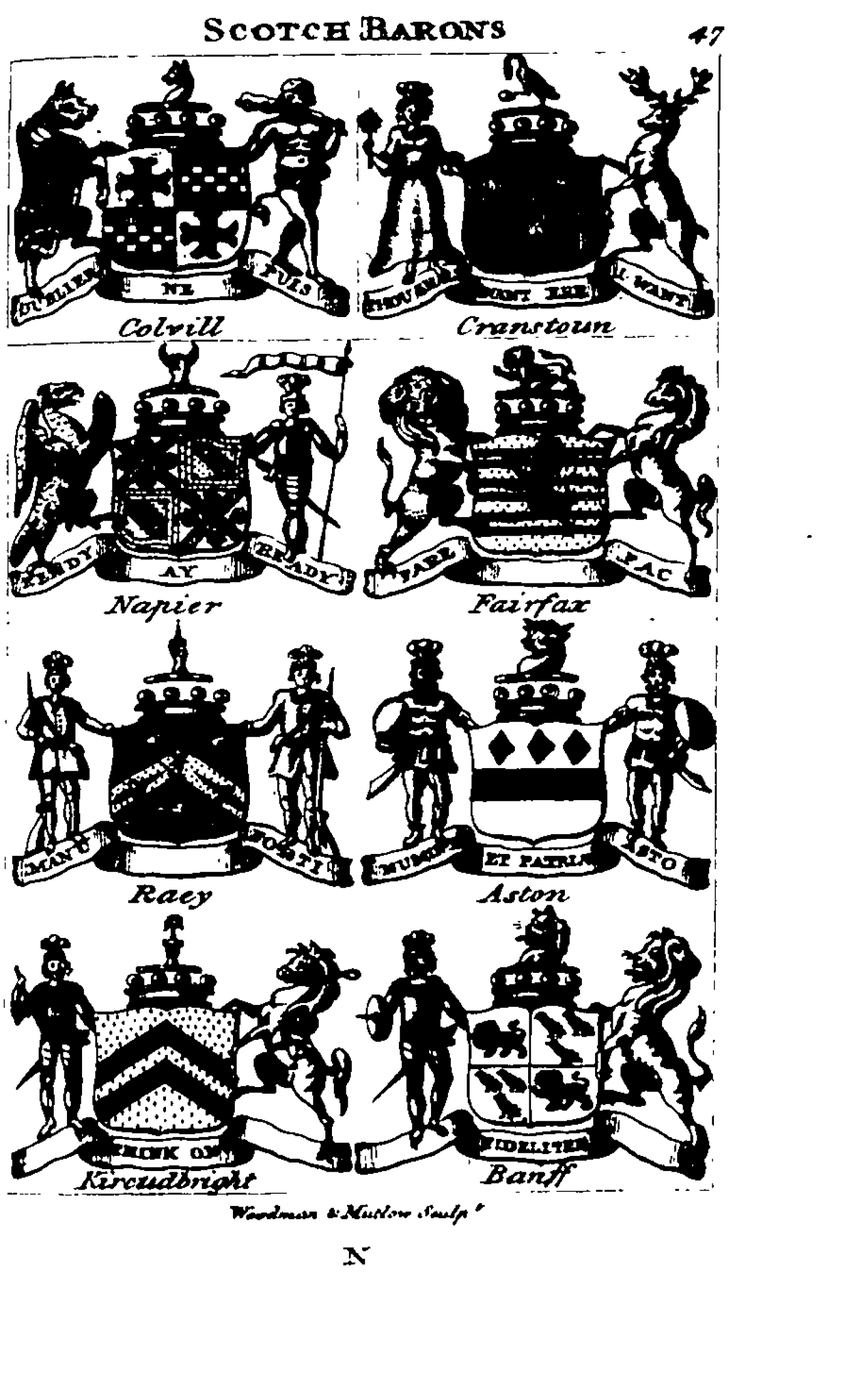coat_of_arms: (349, 51, 716, 337), (359, 626, 715, 916), (355, 917, 715, 1199), (359, 342, 718, 622), (12, 623, 346, 917), (12, 336, 352, 623), (10, 64, 352, 344), (9, 922, 351, 1198)
